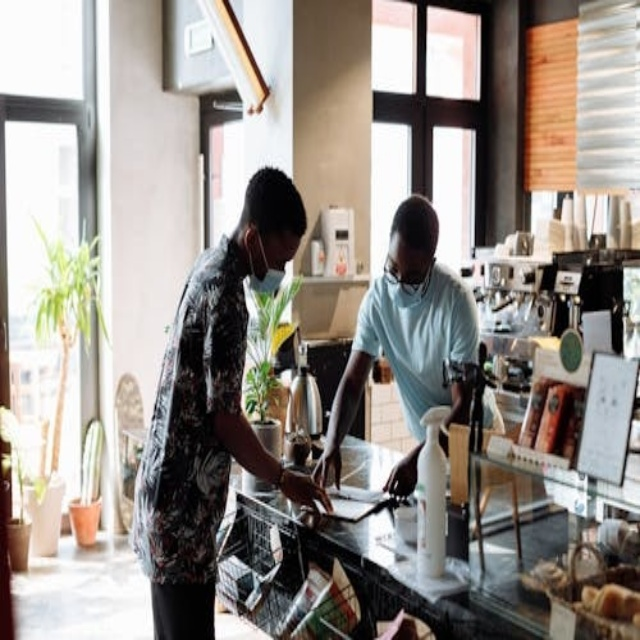Gafas: (383, 252, 433, 296)
Mascara: (247, 233, 287, 298), (390, 262, 432, 311)
Sin_guantes: (280, 454, 333, 527), (384, 446, 420, 500), (308, 444, 342, 493)
